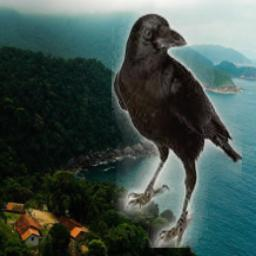Crow: (113, 11, 243, 248)
